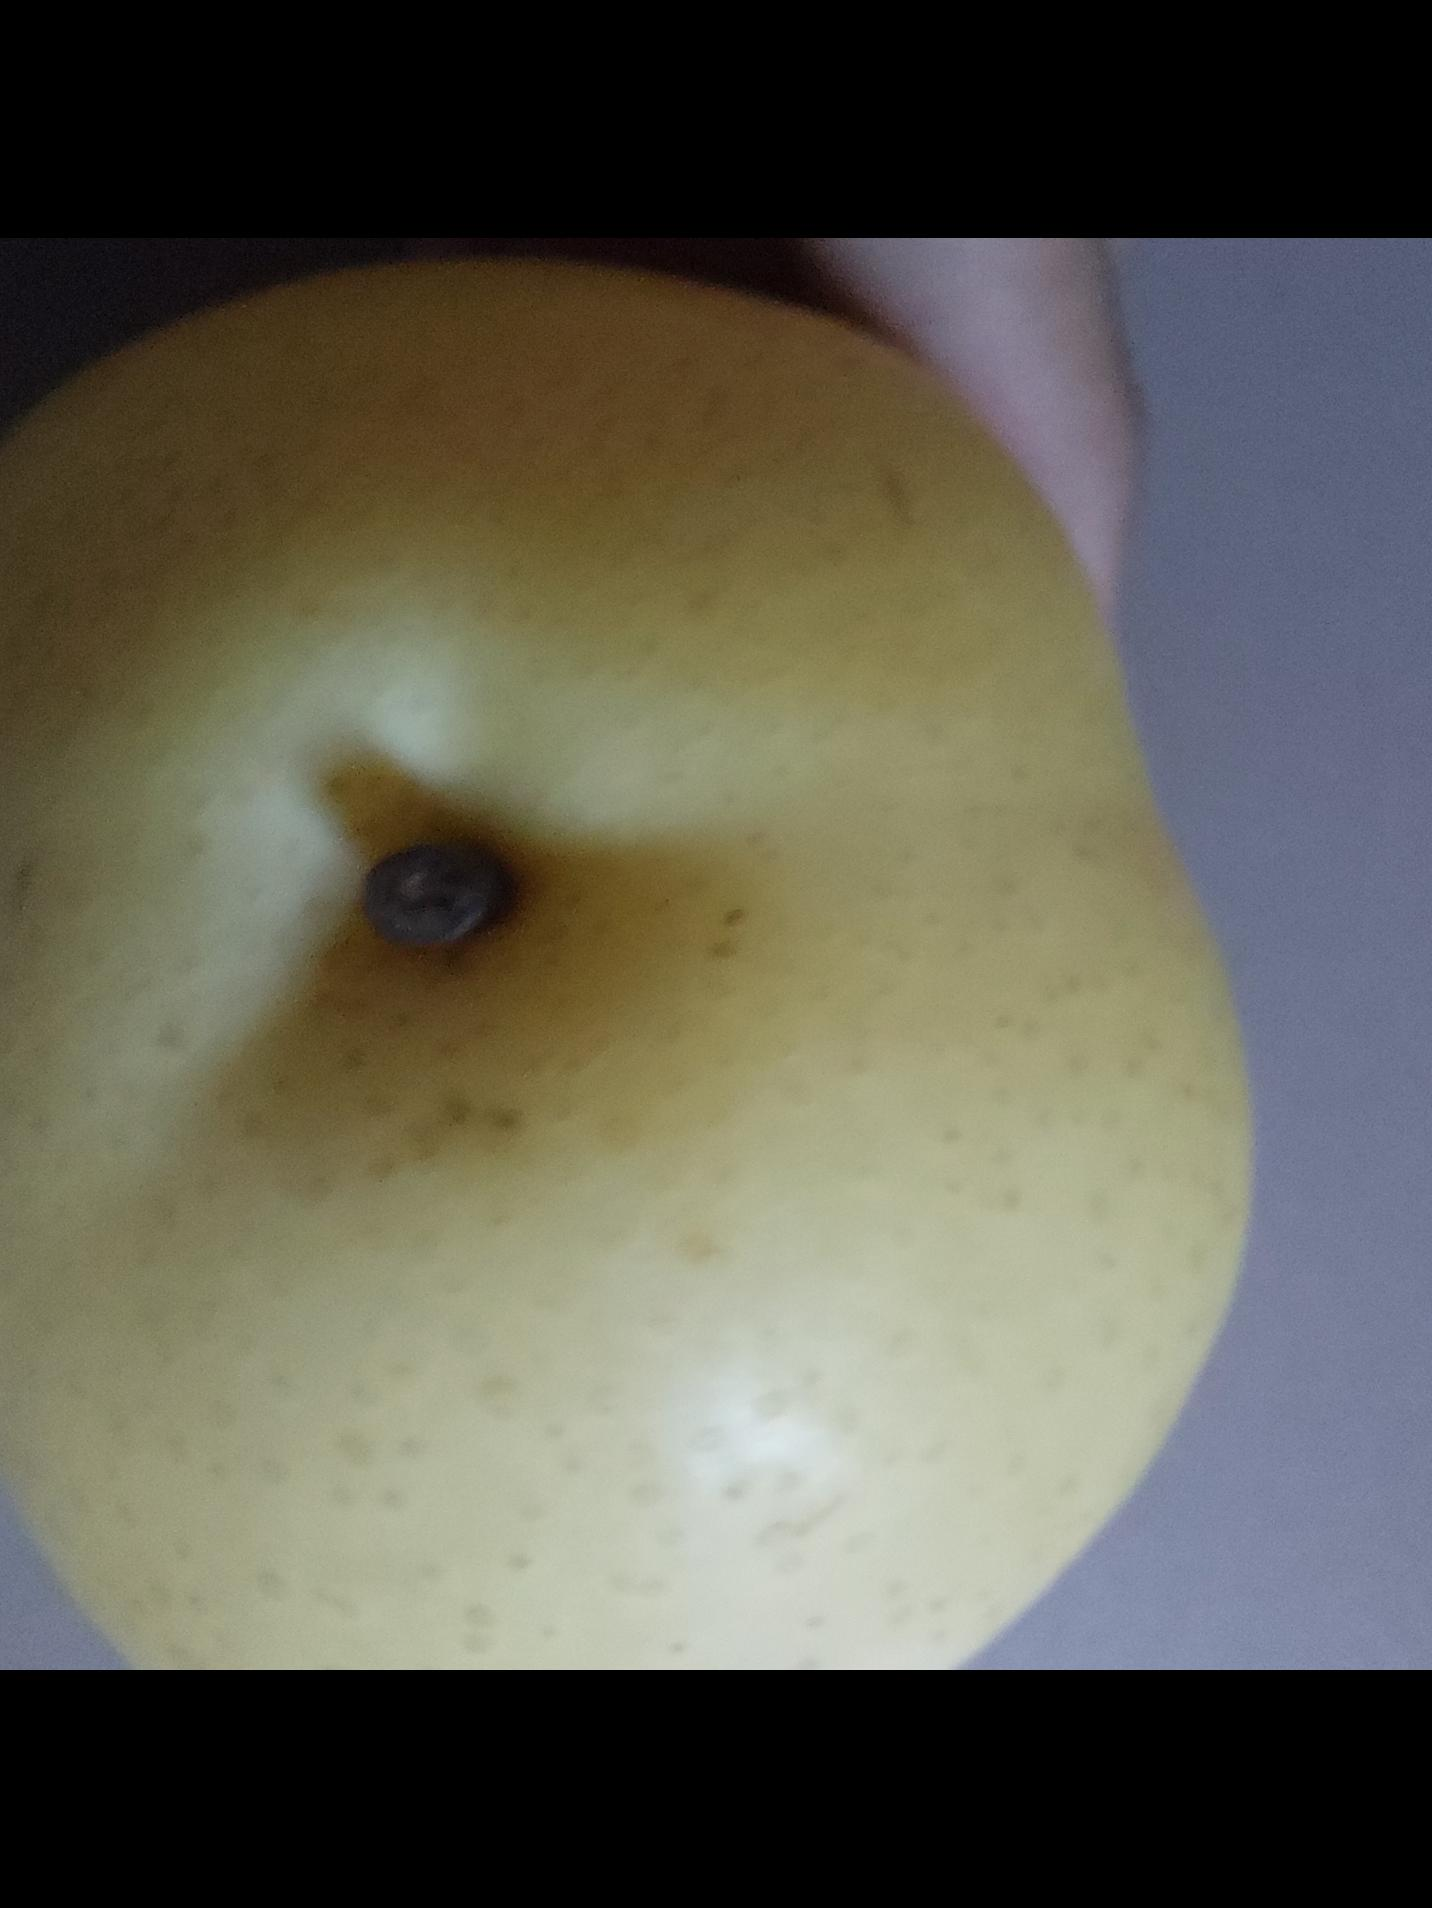Good Pear: (0, 270, 1256, 1670)
